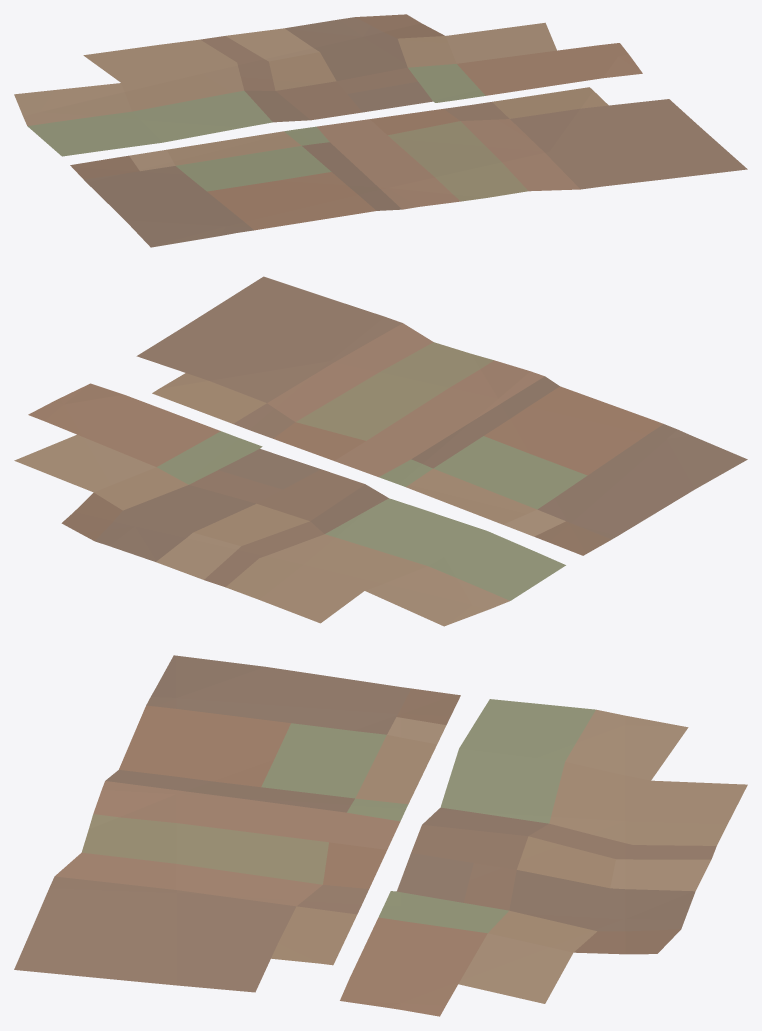
The model's file is farm_24_21_soil.glb.
3 renders of one model, top to bottom at view 1: azimuth 30°, elevation 25°; view 2: azimuth 150°, elevation 25°; view 3: azimuth 270°, elevation 25°, orthographic. The views are drawn at different scales.
Visible parts, largest first — view 1: geometry_0; view 2: geometry_0; view 3: geometry_0.
Part boxes in pixels (x1,y1,x2,y2): geometry_0: (14, 14, 747, 247); geometry_0: (14, 276, 747, 626); geometry_0: (14, 655, 747, 1016).
Bounding box in the file's own units: 287 × 14.16 × 262.
